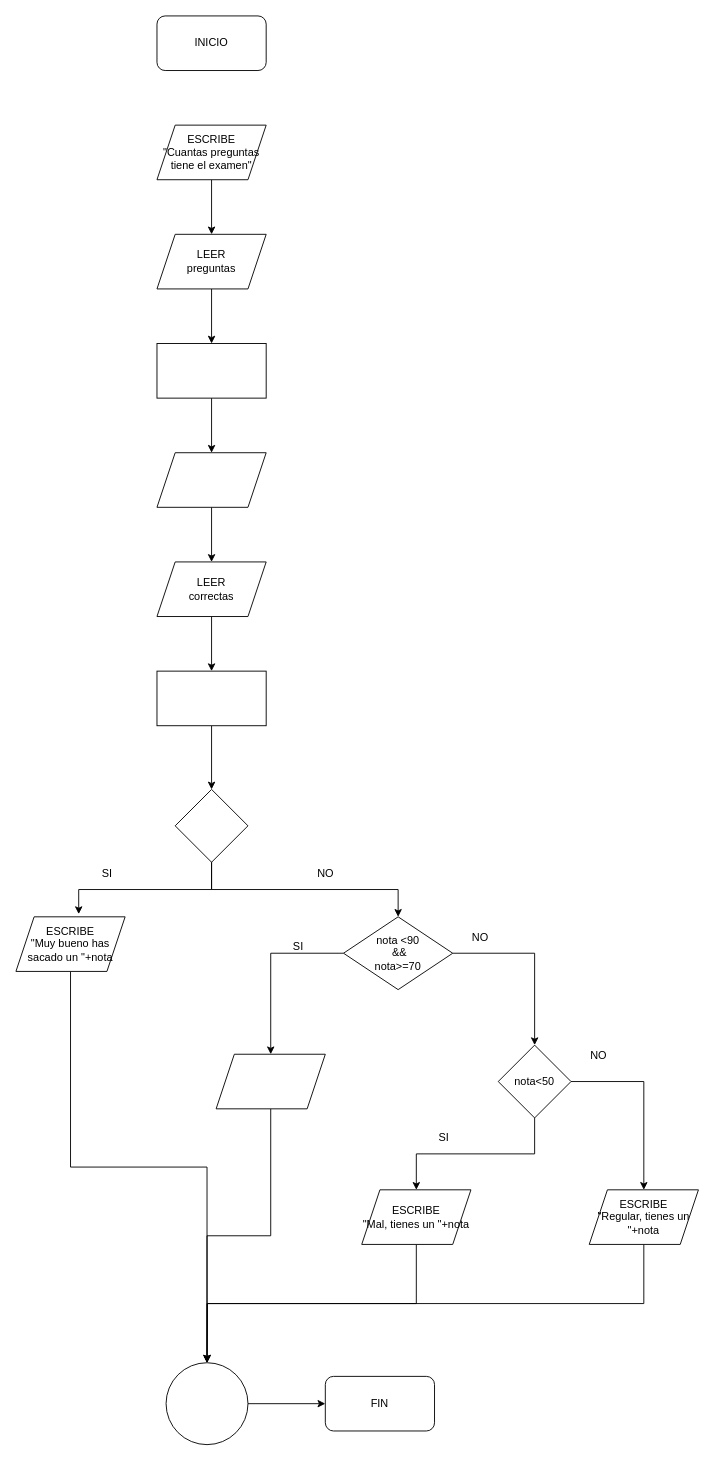
Some shapes in this 714 by 1461 pixel diagram are drawn without their labels. Here are the shapes that lost their labels. From the top down, the centre of each, then its label:
the point at 211,370: valorpreguntas=(double) 100/preguntas
the point at 211,479: ESCRIBE "Cuantas preguntas tienes bien?"
the point at 211,698: nota= valorpreguntas*correctas;
the point at 211,825: nota>=90
the point at 270,1081: ESCRIBE "Bueno, has sacado un "+nota
